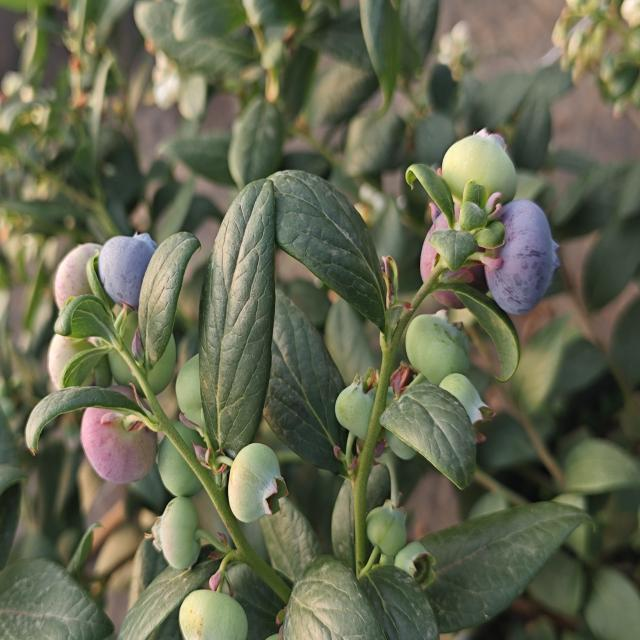ripe: (491, 196, 559, 320), (83, 228, 163, 298)
